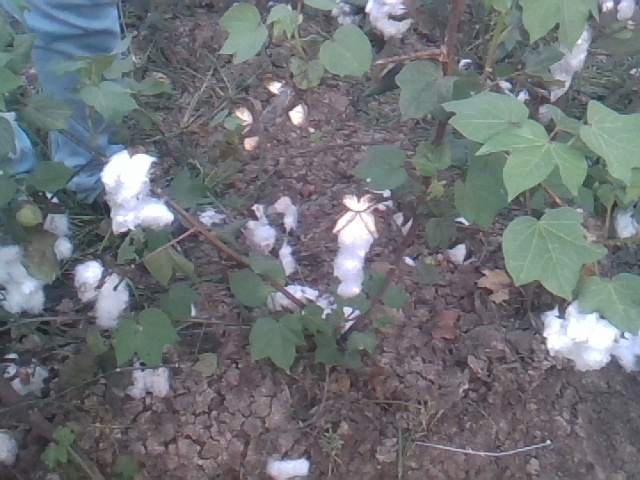cotton: (1, 185, 73, 316), (539, 292, 640, 376), (99, 148, 178, 236), (528, 10, 593, 102), (266, 284, 362, 344), (331, 197, 378, 302), (246, 193, 297, 279), (74, 260, 134, 330), (1, 352, 50, 398), (126, 349, 170, 400), (364, 1, 414, 39), (262, 455, 313, 480), (612, 202, 637, 250), (601, 1, 637, 29), (331, 1, 365, 27), (1, 430, 19, 466)
